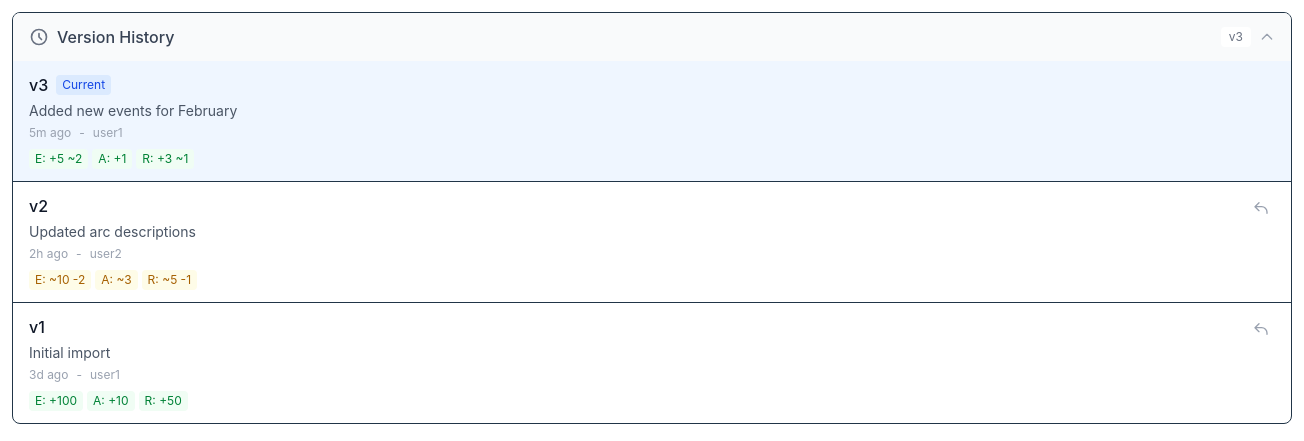
Test case: VersionHistoryPanel › Rollback Functionality › should cancel rollback when No is clicked
Click the 1st button titled "Rollback to this version".
click(1261, 208)  # box 1247,194 -> 1275,222
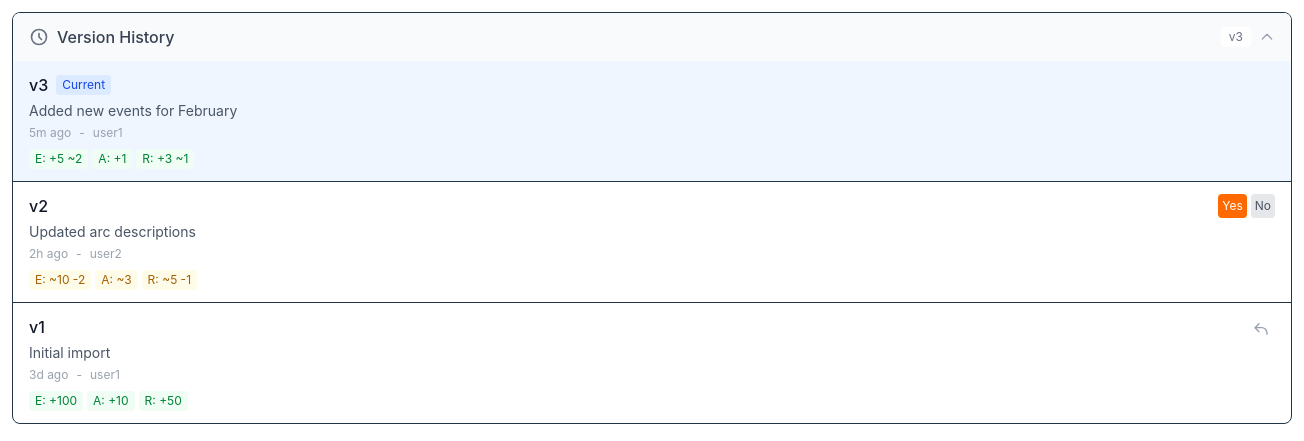
Click the button "No".
click(1263, 206)  # box 1251,194 -> 1275,218
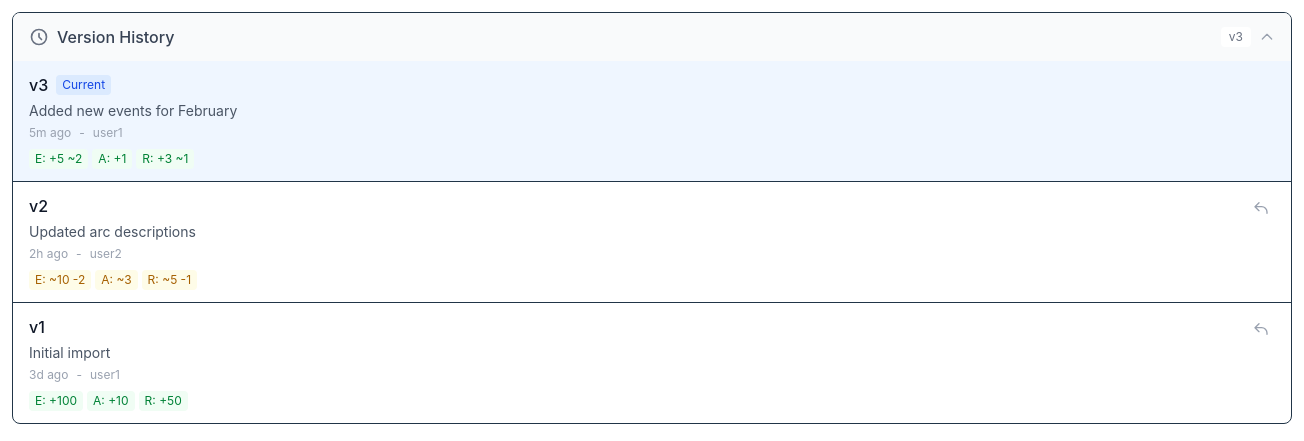
Now the button "Yes" is gone
